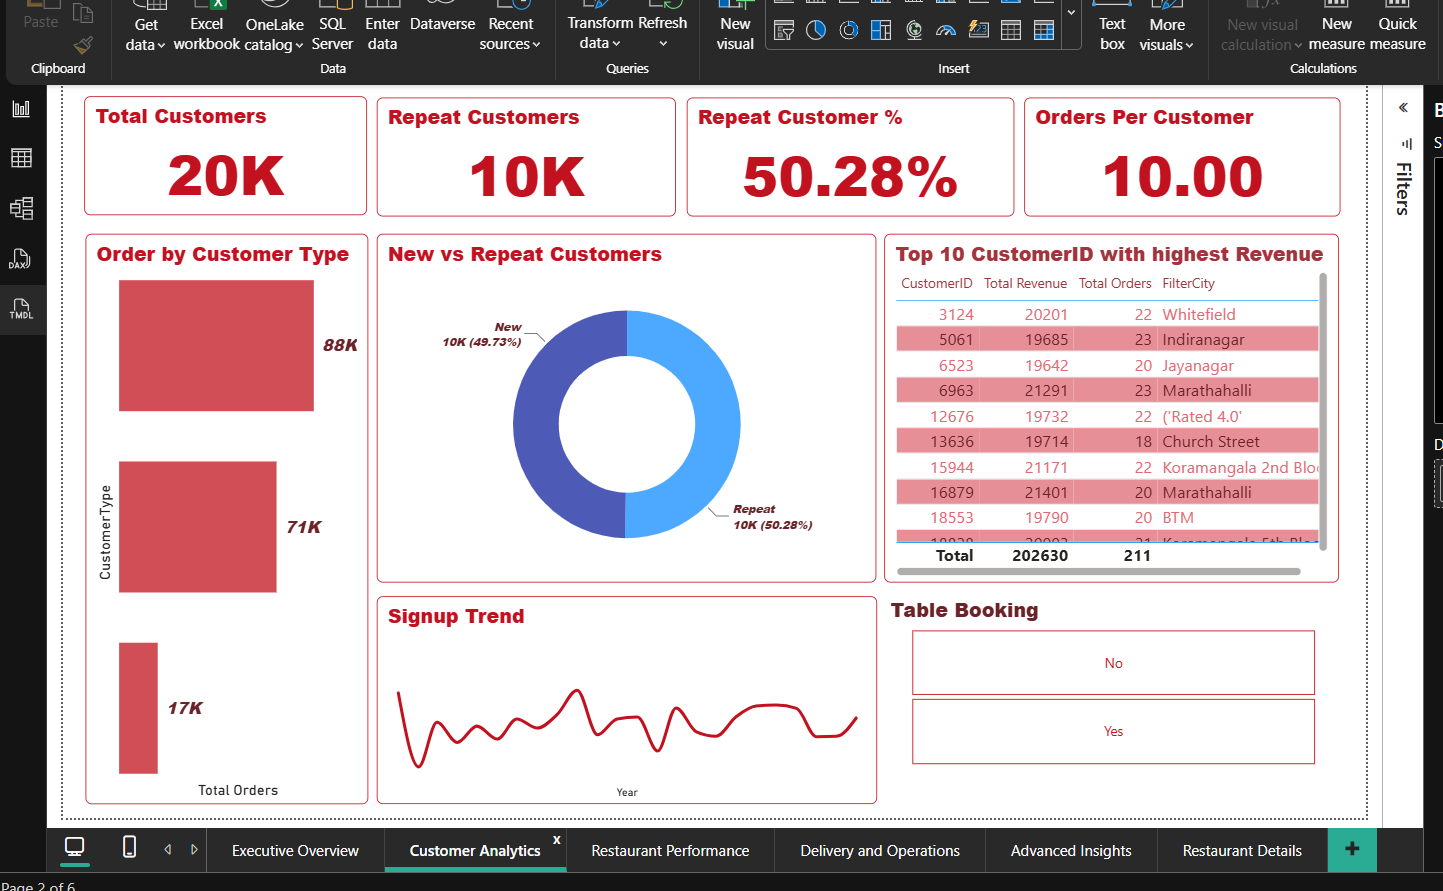

Layout of this report page (visuals, bound fields, positions):
{"tool":"powerbi","page":{"name":"Customer Analytics","canvas":[1280,720],"ordinal":1},"visuals":[{"type":"card","title":"Total Customers","fields":{"Values":["Orders.Total Customers"]},"box":[21.4,11.4,277.9,117.1],"z":0},{"type":"card","title":"Repeat Customers","fields":{"Values":["Orders.Repeat Customers"]},"box":[308.3,11.7,293.3,116.7],"z":1000},{"type":"card","title":"Repeat Customer %","fields":{"Values":["Orders.Repeat Customer %"]},"box":[611.7,11.7,321.7,116.7],"z":2000},{"type":"card","title":"Orders Per Customer","fields":{"Values":["Orders.Orders Per Customer"]},"box":[943.3,11.7,310,116.7],"z":3000},{"type":"lineChart","title":"Signup Trend","fields":{"Y":["Orders.Total Customers"],"Category":["Customers.SignupDate.Variation.Date Hierarchy.Year","Customers.SignupDate.Variation.Date Hierarchy.Month"]},"box":[308.6,501.4,491.4,204.3],"z":4000},{"type":"barChart","title":"Order by Customer Type","fields":{"Y":["Orders.Total Orders"],"Category":["Customers.CustomerType"]},"box":[22,145.5,277.7,559.8],"z":5000},{"type":"donutChart","title":"New vs Repeat Customers","fields":{"Category":["Customers.RepeatedOrNew"],"Y":["Orders.Total Customers"]},"box":[308.6,145.5,490.8,342.4],"z":6000},{"type":"tableEx","title":"Top 10 CustomerID with highest Revenue","fields":{"Values":["Orders.CustomerID","Orders.Total Revenue","Orders.Total Orders","Customers.FilterCity"]},"box":[806.7,145.5,446.7,342.4],"z":7000},{"type":"slicer","title":"Table Booking","fields":{"Values":["Restaurants.Book_Table 2"]},"box":[807.1,501.4,445.7,171.4],"z":8000}]}

Visuals, with their boxes on the page's 1280x720 design canvas (x1, y1, x2, y2). These are canvas units, not pixel positions in the 1443x891 screenshot, which may show the page scaled, cropped or inside an application window:
"Total Customers" card: (x1=21, y1=11, x2=299, y2=128)
"Repeat Customers" card: (x1=308, y1=12, x2=602, y2=128)
"Repeat Customer %" card: (x1=612, y1=12, x2=933, y2=128)
"Orders Per Customer" card: (x1=943, y1=12, x2=1253, y2=128)
"Signup Trend" lineChart: (x1=309, y1=501, x2=800, y2=706)
"Order by Customer Type" barChart: (x1=22, y1=146, x2=300, y2=705)
"New vs Repeat Customers" donutChart: (x1=309, y1=146, x2=799, y2=488)
"Top 10 CustomerID with highest Revenue" tableEx: (x1=807, y1=146, x2=1253, y2=488)
"Table Booking" slicer: (x1=807, y1=501, x2=1253, y2=673)
